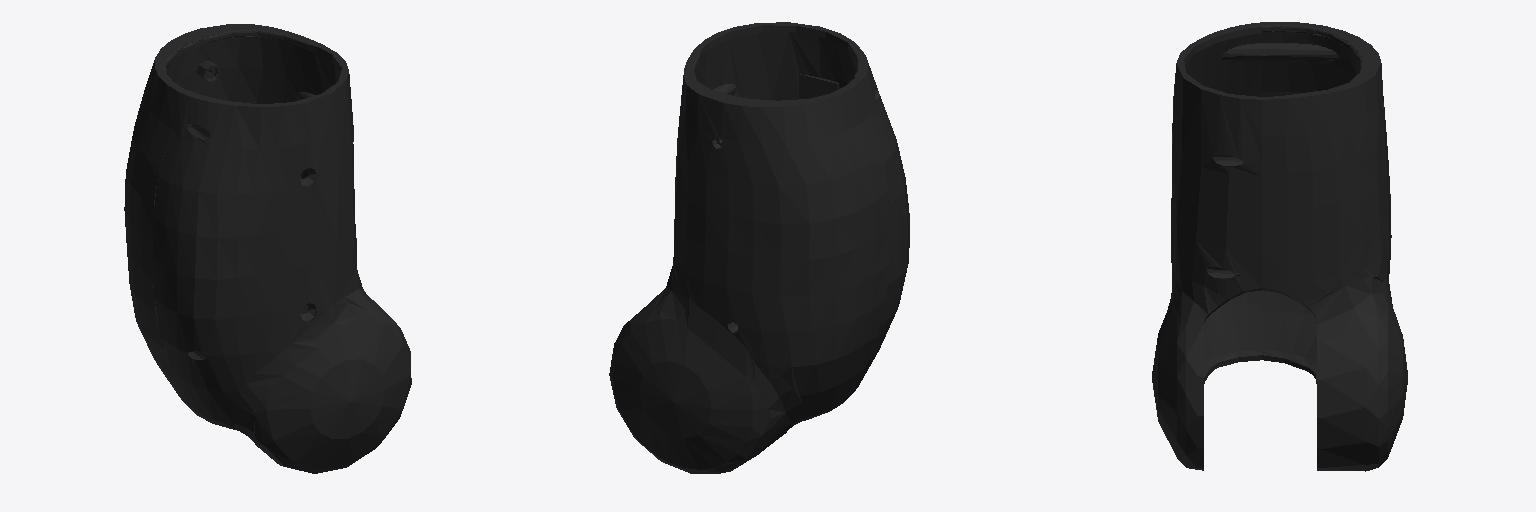
Rendered from asm0001_vrml_12_prt.obj.
The picture shows the model from 3 angles: view 1: azimuth 30°, elevation 25°; view 2: azimuth 150°, elevation 25°; view 3: azimuth 270°, elevation 25°; orthographic projection.
Parts seen in each view (by area): view 1: ShapeIndexedFaceSet.001_ShapeIndexedFaceSet, ShapeIndexedFaceSet_ShapeIndexedFaceSet.037; view 2: ShapeIndexedFaceSet_ShapeIndexedFaceSet.037, ShapeIndexedFaceSet.001_ShapeIndexedFaceSet; view 3: ShapeIndexedFaceSet_ShapeIndexedFaceSet.037, ShapeIndexedFaceSet.001_ShapeIndexedFaceSet.
Boxes of the visible parts, <box> form: ShapeIndexedFaceSet.001_ShapeIndexedFaceSet: <box>153,53,411,473</box>; ShapeIndexedFaceSet_ShapeIndexedFaceSet.037: <box>124,24,336,414</box>; ShapeIndexedFaceSet_ShapeIndexedFaceSet.037: <box>609,40,888,473</box>; ShapeIndexedFaceSet.001_ShapeIndexedFaceSet: <box>705,22,909,396</box>; ShapeIndexedFaceSet_ShapeIndexedFaceSet.037: <box>1262,22,1407,471</box>; ShapeIndexedFaceSet.001_ShapeIndexedFaceSet: <box>1152,22,1261,470</box>.
Bounding box in the file's own units: 2.66 × 4.33 × 2.63.